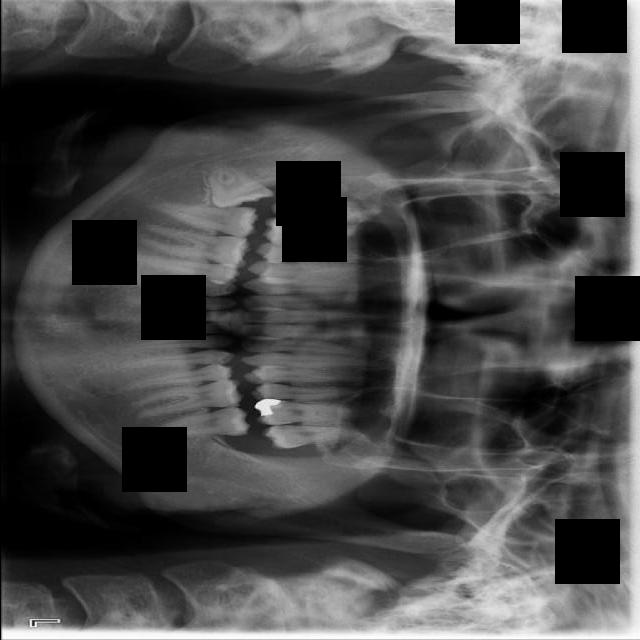52: (251, 397, 301, 428), (276, 424, 294, 431)
73: (40, 615, 50, 623)
BioHorizons Implant: (259, 418, 366, 451)
Blue Sky Bio Implant: (140, 407, 250, 440)
Caries: (270, 191, 381, 227)
Implant: (146, 201, 258, 239)
Keystone Dental Implant: (205, 158, 275, 211)
